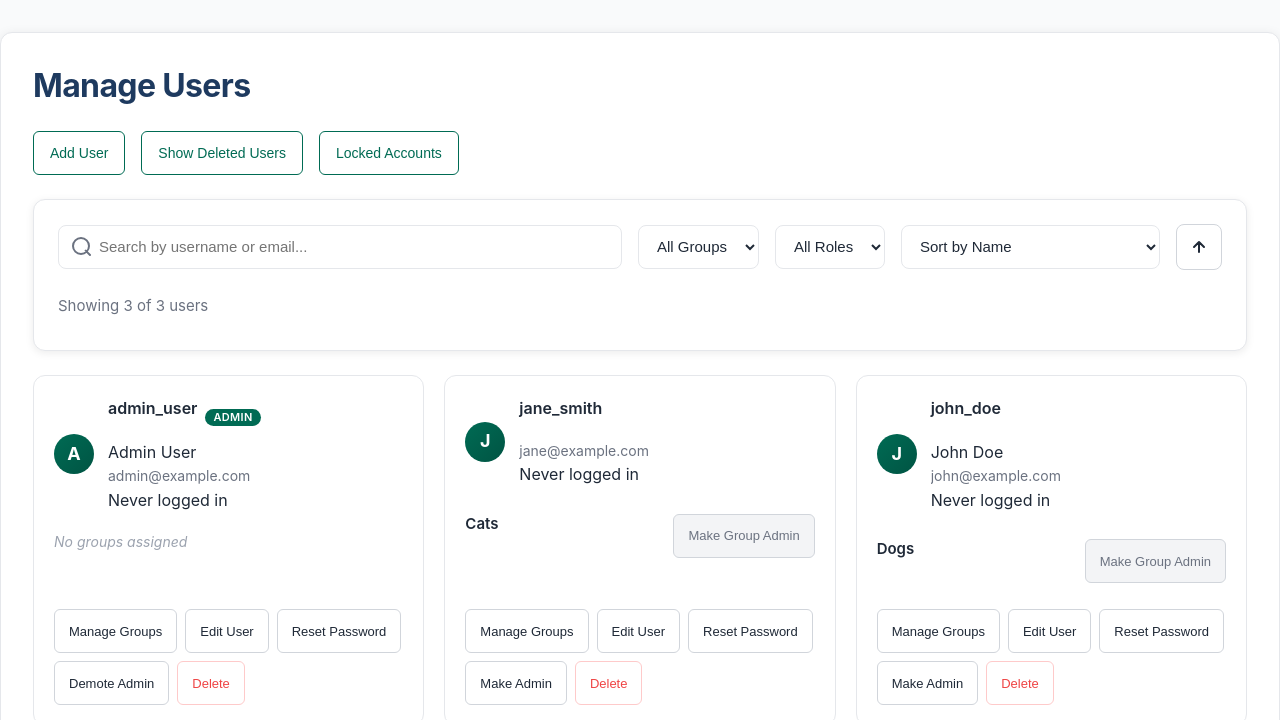
it: UsersPage › Create User form — structure › shows the "send setup email" checkbox checked by default
Click the button "Add User": (79,153) [33,131,125,175]
(page scrolled)
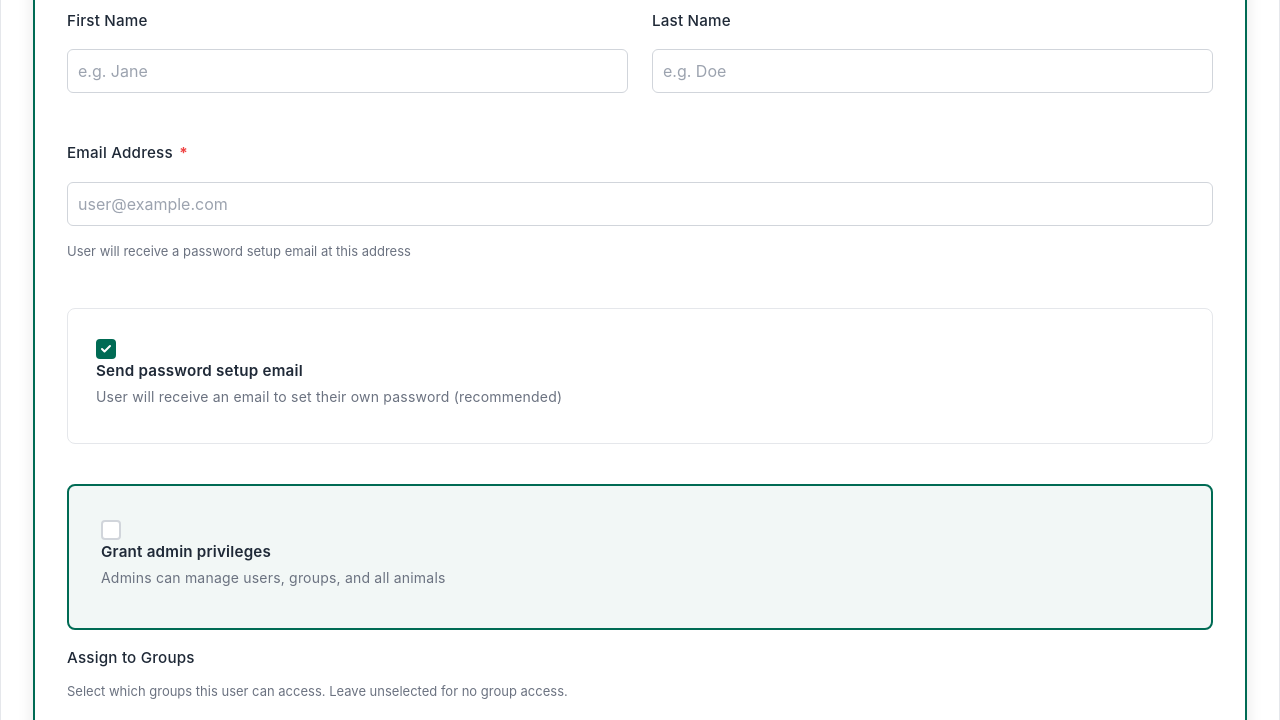
Result: the checkbox labelled "Send password setup email" is checked at [96,339,562,405]
